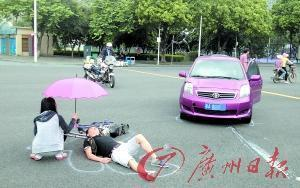Fall-Detected: (75, 116, 164, 173)
